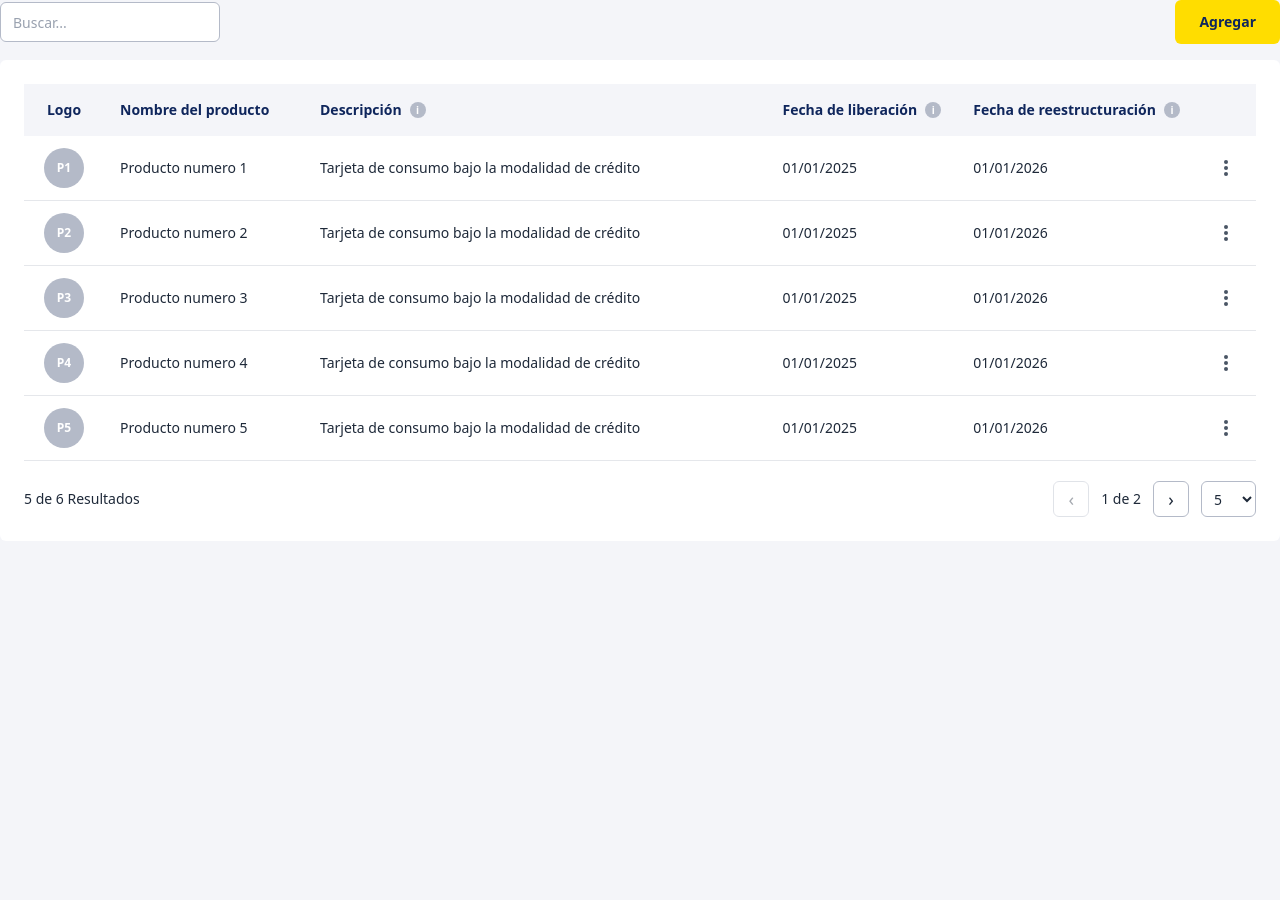
Test: ProductsComponent › deberia regresar a la pagina anterior si se elimina el ultimo producto de la pagina
Click the button named "Página siguiente".
click(1171, 499)  # box [1153, 481, 1189, 517]
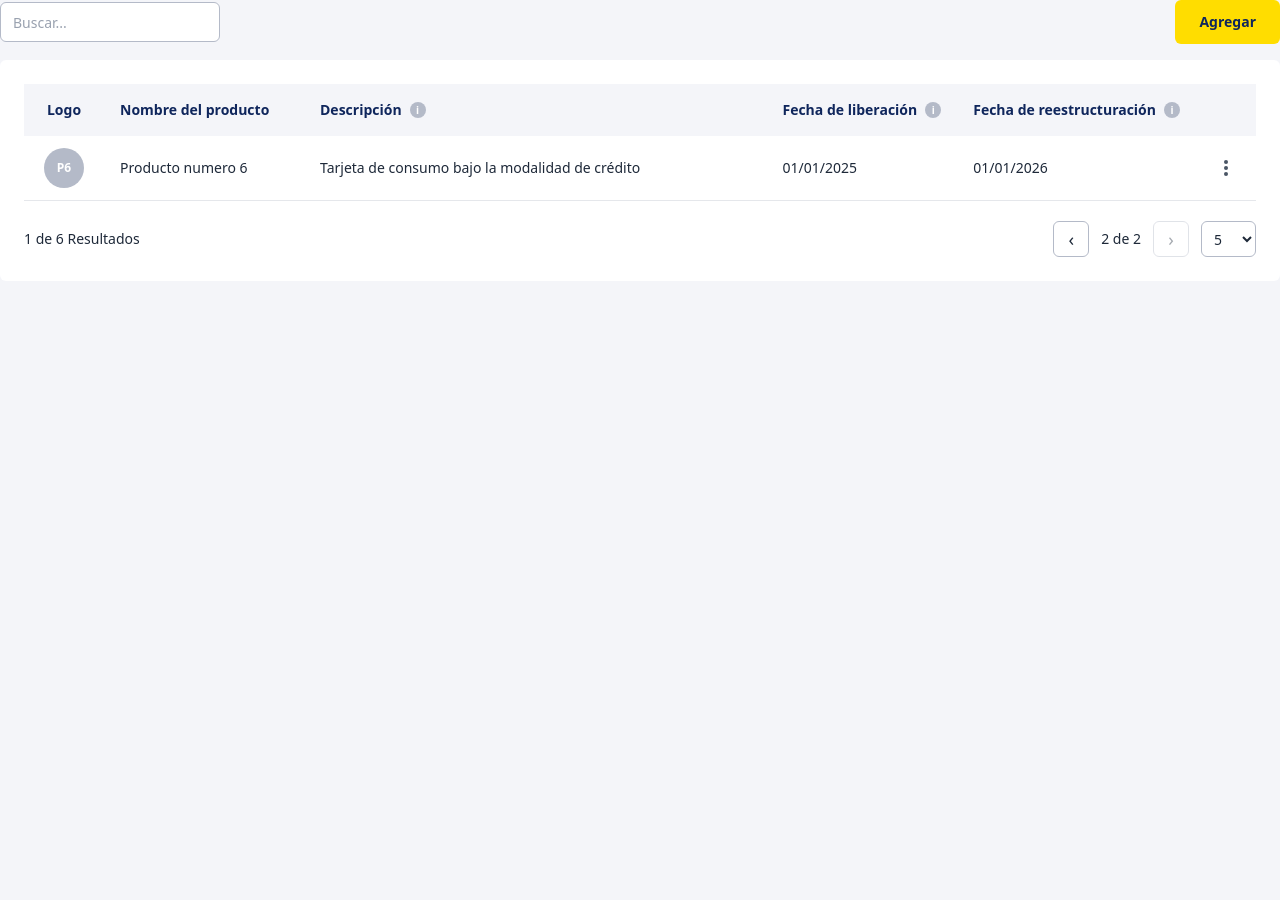
Click the button named "Opciones de Producto numero 6".
click(1226, 168)  # box [1210, 152, 1242, 184]
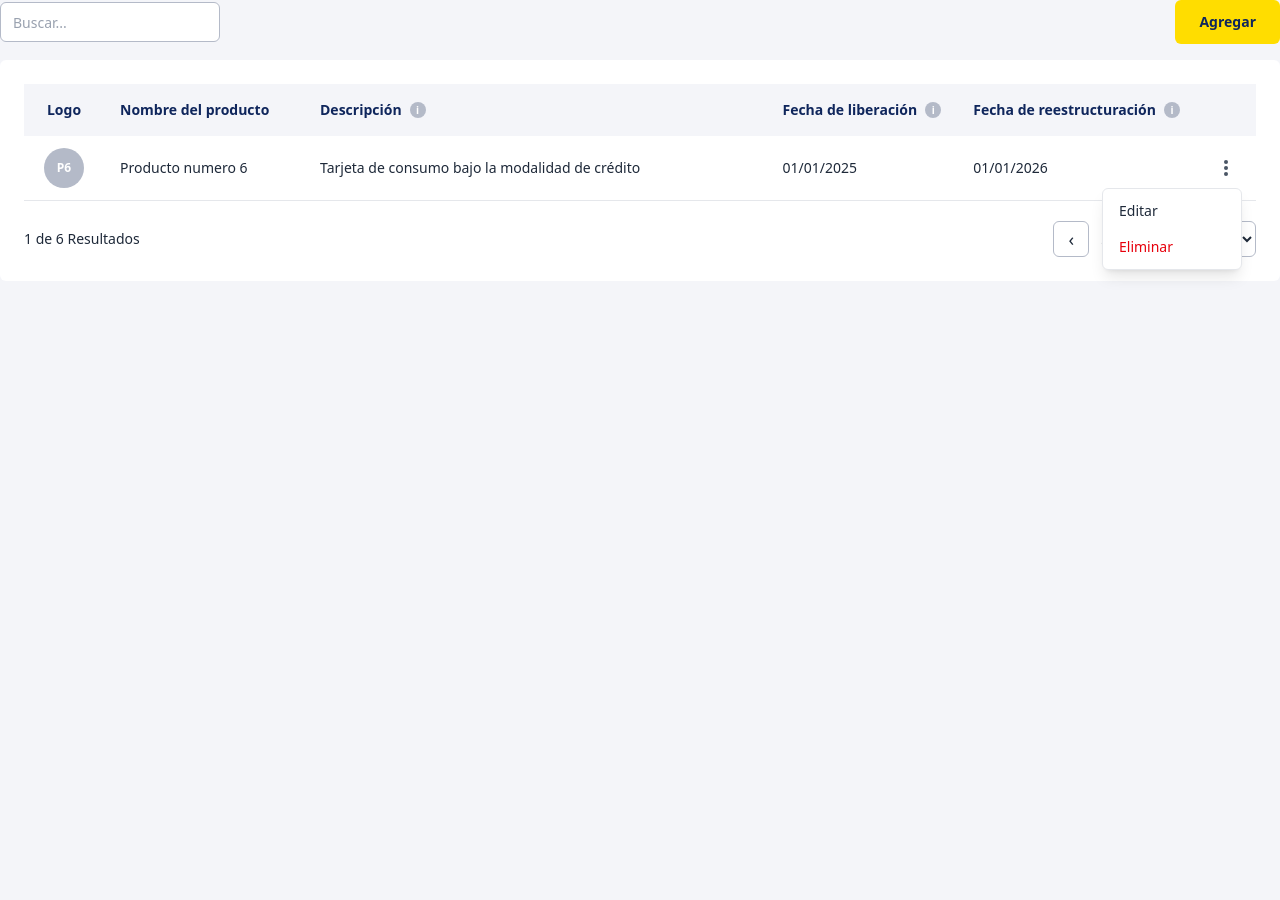
Click the menu item "Eliminar".
click(1172, 247)  # box [1103, 229, 1241, 265]
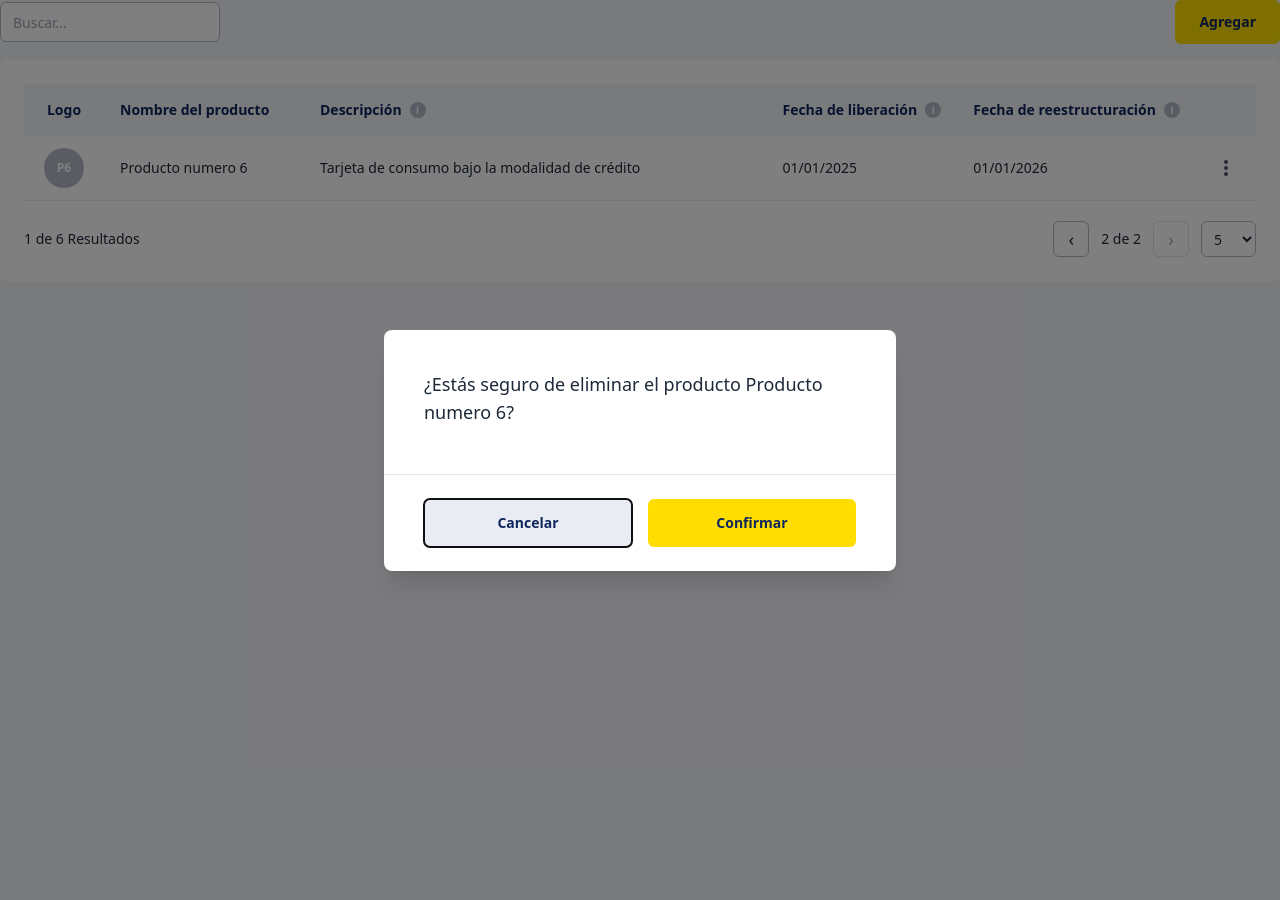
Click the button "Confirmar".
click(752, 522)  # box [648, 498, 856, 546]
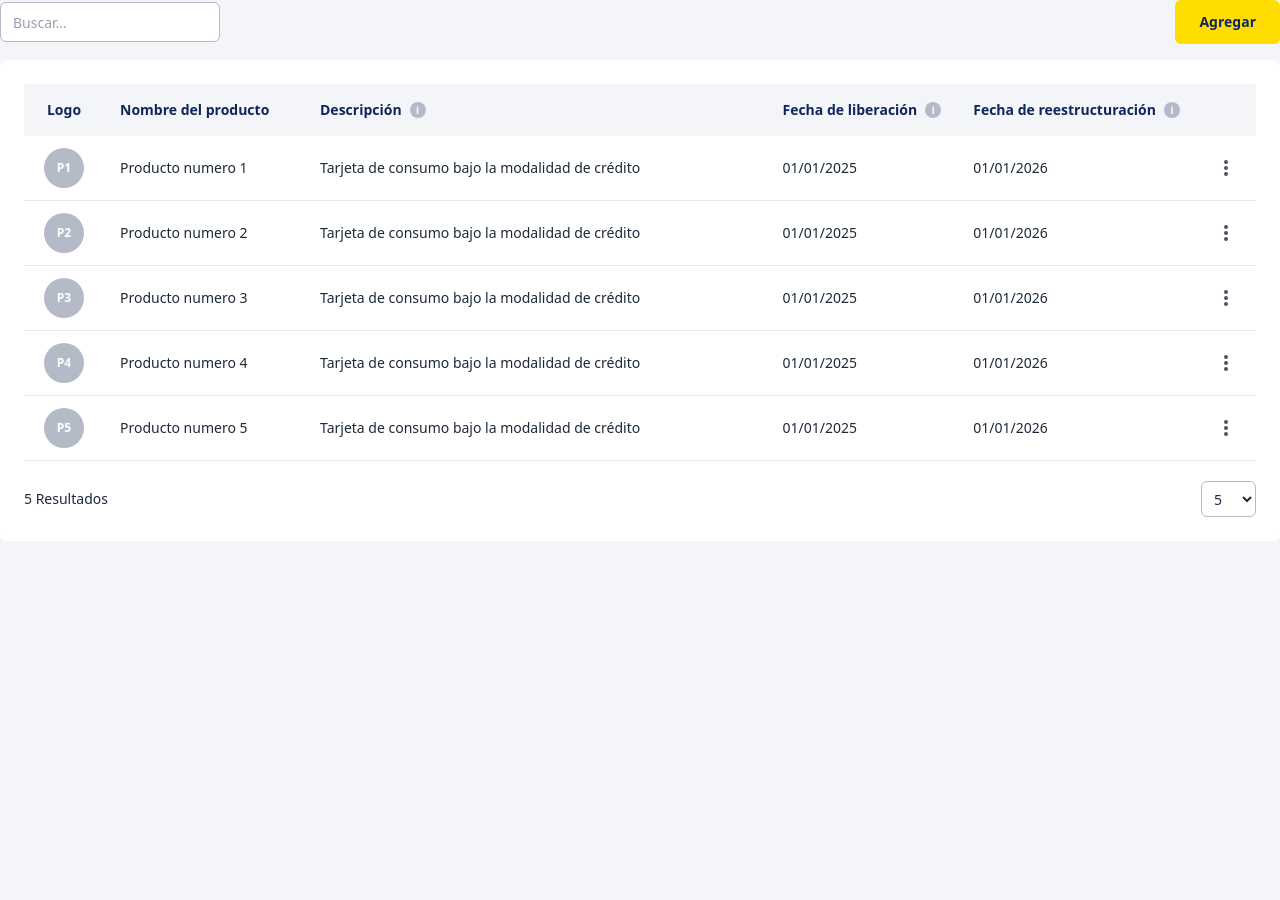
Result: the row that starts with "Producto numero 1" is shown at [120, 158, 248, 177]
